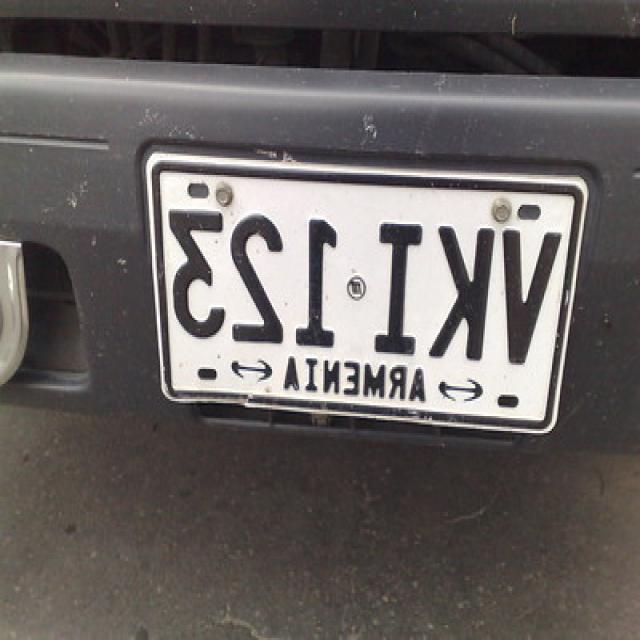placas: (155, 200, 567, 373)
